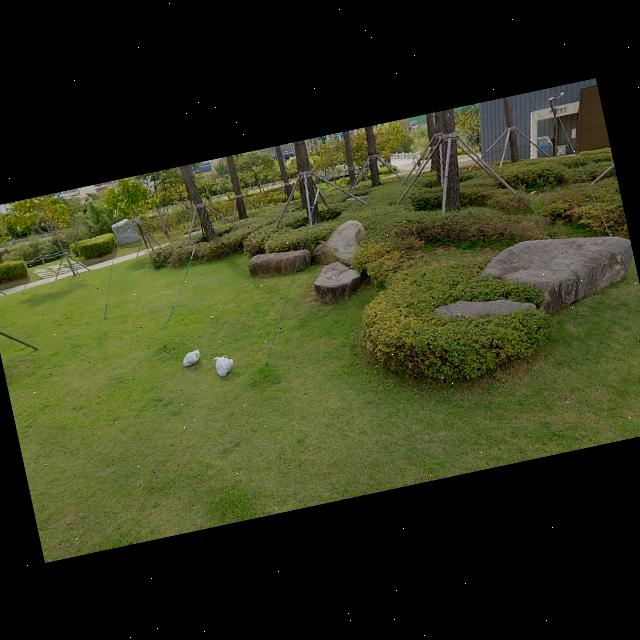trash: (210, 348, 238, 382), (177, 343, 203, 375)
